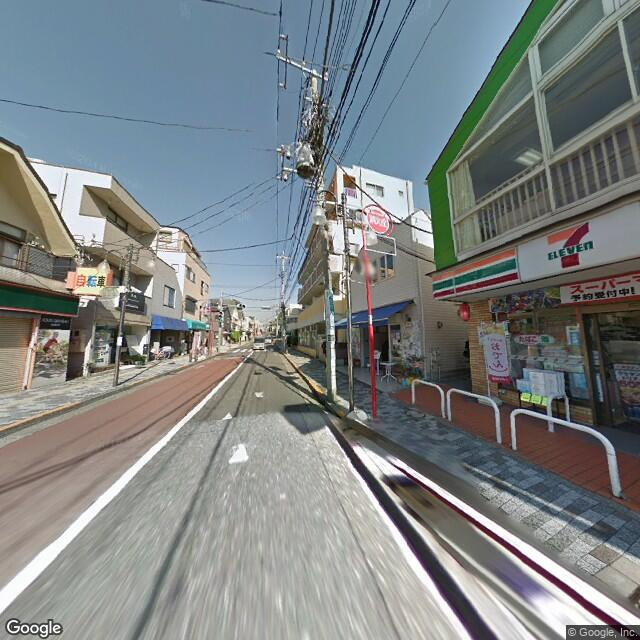7-eleven: (430, 196, 639, 302)
